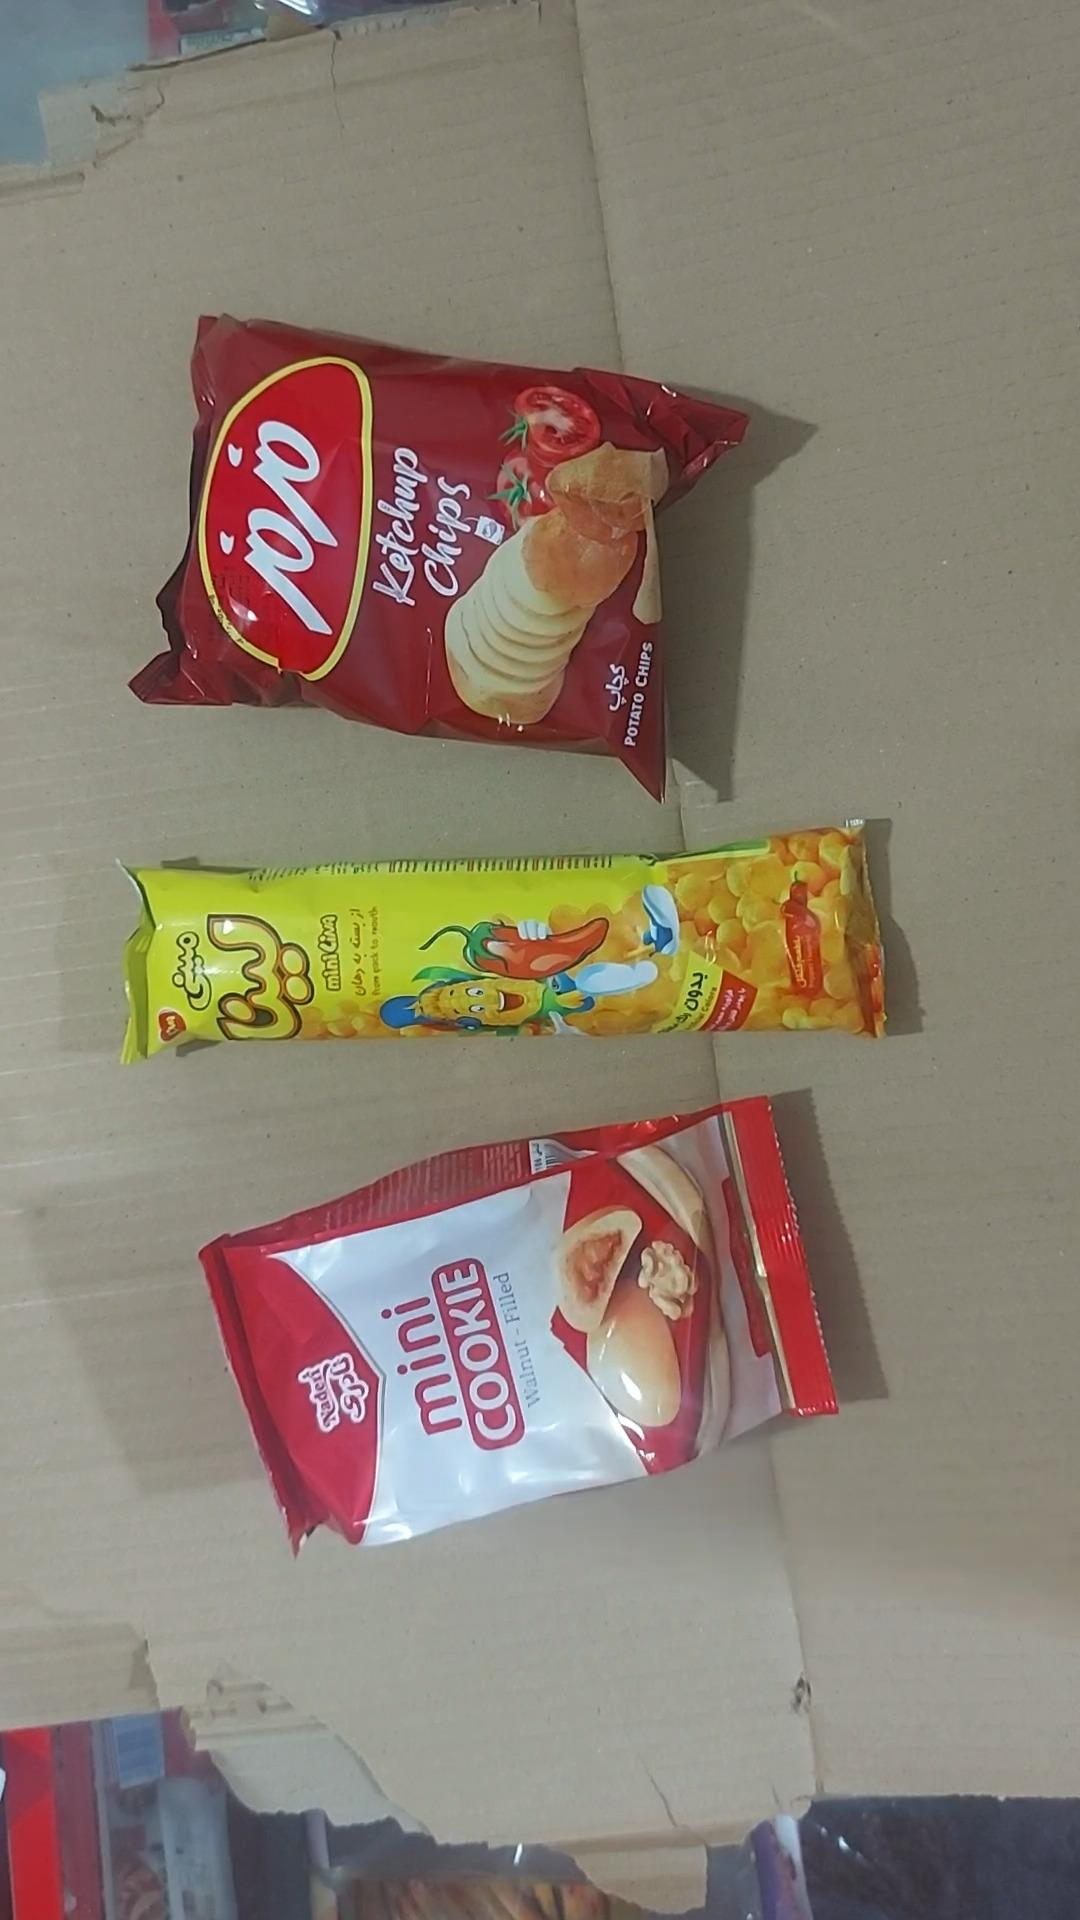Maz Maz ketchup chips: (131, 316, 746, 796)
Mini Lina: (123, 827, 886, 1063)
Naderi mini cookie: (200, 1100, 836, 1551)
